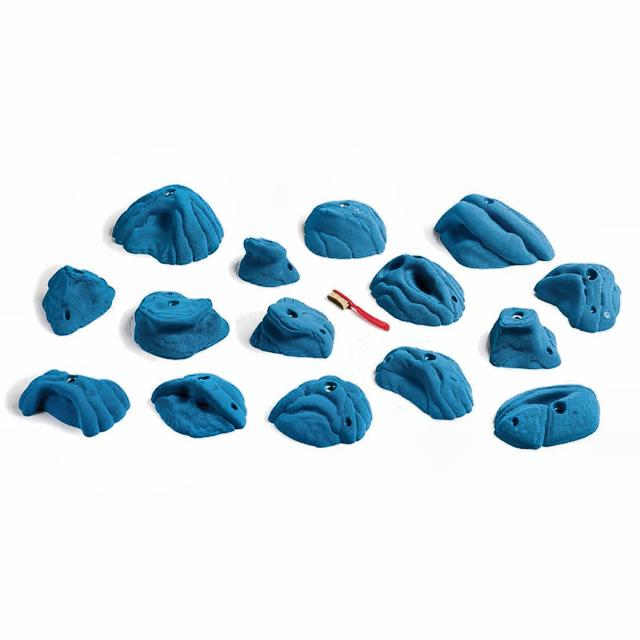Hold: (431, 185, 556, 268), (375, 340, 481, 423), (20, 364, 138, 437), (116, 185, 218, 264), (489, 387, 604, 453), (266, 379, 370, 448), (151, 373, 256, 438), (130, 289, 227, 354), (382, 254, 463, 328), (533, 265, 622, 328), (249, 300, 337, 360), (302, 196, 386, 257), (39, 266, 113, 330), (489, 308, 561, 371), (236, 228, 297, 284)
